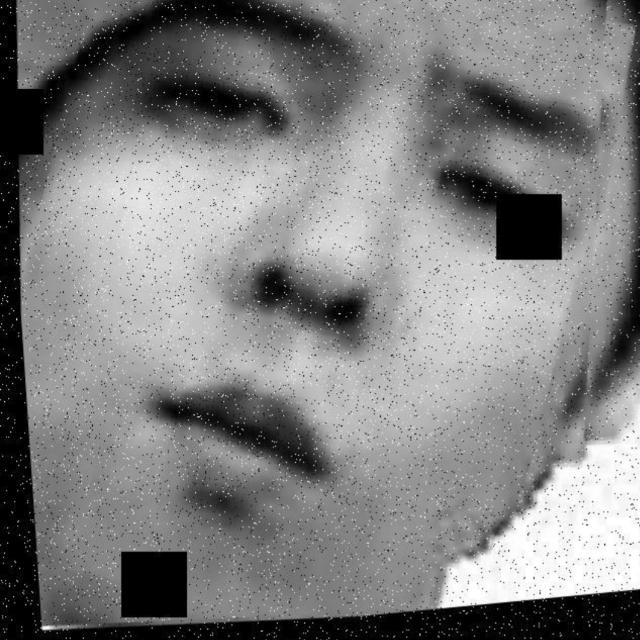Natural: (60, 31, 640, 625)
